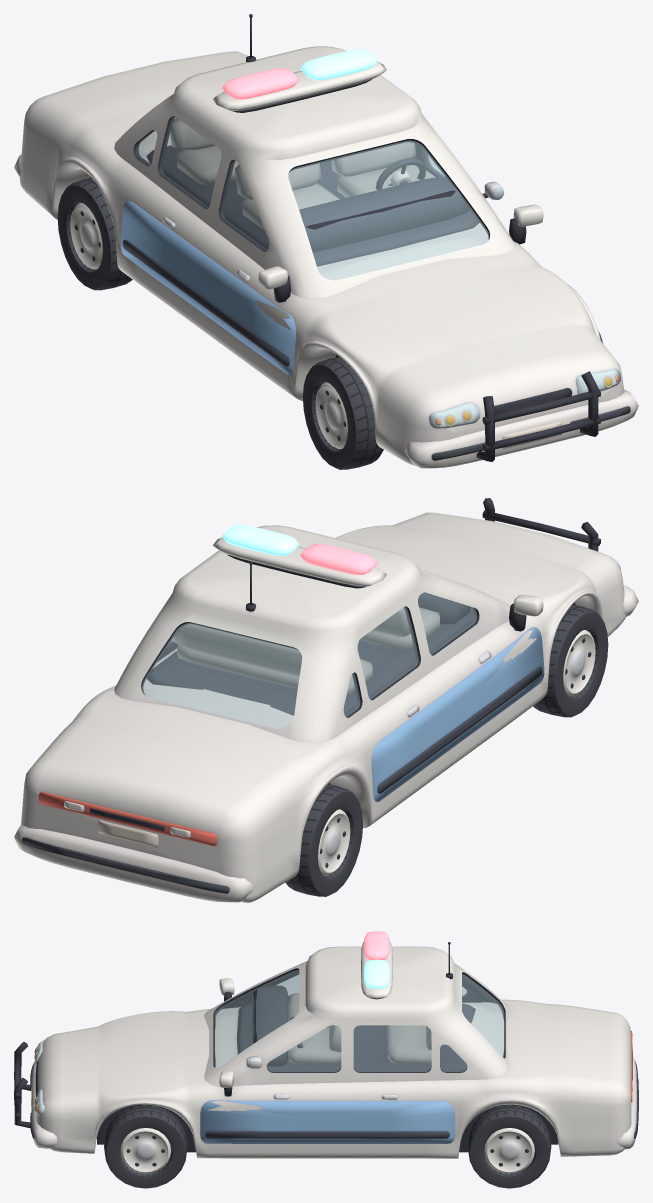
Rendered from 1990s-police-car.glb.
The picture shows the model from 3 angles, top to bottom: view 1: azimuth 30°, elevation 25°; view 2: azimuth 150°, elevation 25°; view 3: azimuth 270°, elevation 25°; orthographic projection. The views are drawn at different scales.
Parts seen in each view (by area): view 1: 1990s-police-car_body, 1990s-police-car_windows, 1990s-police-car_wheel_fr, 1990s-police-car_lightbar, 1990s-police-car_wheel_rr; view 2: 1990s-police-car_body, 1990s-police-car_windows, 1990s-police-car_wheel_rr, 1990s-police-car_lightbar, 1990s-police-car_wheel_fr; view 3: 1990s-police-car_body, 1990s-police-car_windows, 1990s-police-car_wheel_fl, 1990s-police-car_wheel_rl, 1990s-police-car_lightbar.
Part boxes in pixels (bbox=[...]): 1990s-police-car_body: bbox=[14, 14, 638, 468]; 1990s-police-car_windows: bbox=[136, 116, 488, 279]; 1990s-police-car_wheel_fr: bbox=[303, 356, 383, 469]; 1990s-police-car_lightbar: bbox=[213, 49, 386, 112]; 1990s-police-car_wheel_rr: bbox=[57, 178, 132, 290]; 1990s-police-car_body: bbox=[14, 498, 638, 902]; 1990s-police-car_windows: bbox=[142, 592, 476, 728]; 1990s-police-car_wheel_rr: bbox=[285, 784, 362, 896]; 1990s-police-car_lightbar: bbox=[213, 524, 386, 588]; 1990s-police-car_wheel_fr: bbox=[533, 604, 608, 717]; 1990s-police-car_body: bbox=[14, 942, 638, 1158]; 1990s-police-car_windows: bbox=[215, 970, 503, 1071]; 1990s-police-car_wheel_fl: bbox=[104, 1104, 187, 1188]; 1990s-police-car_wheel_rl: bbox=[467, 1104, 551, 1188]; 1990s-police-car_lightbar: bbox=[361, 931, 392, 999].
Size of the model in its own units: 1.96 by 1.82 by 5.09.
Materials: 22 (5 with a texture image).
